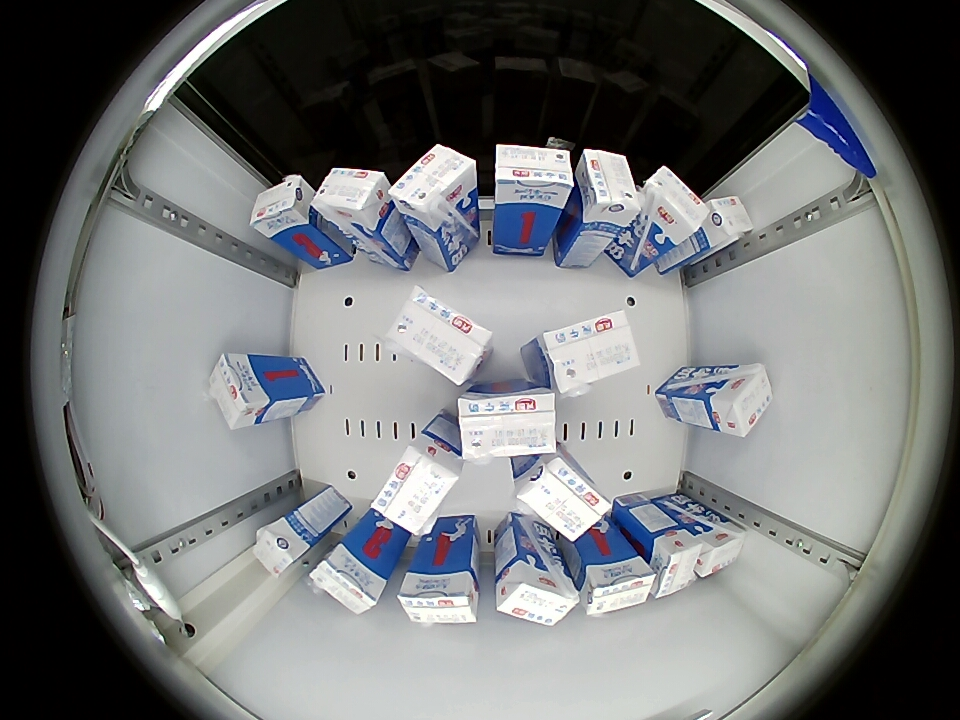niunai: (389, 284, 495, 387), (536, 310, 642, 396), (368, 440, 461, 537), (513, 454, 612, 545), (388, 143, 476, 230), (458, 385, 558, 460), (307, 541, 390, 616), (495, 562, 580, 627), (577, 148, 643, 228), (494, 144, 574, 210), (208, 351, 273, 431), (310, 167, 390, 232), (708, 362, 773, 439), (398, 566, 481, 626), (581, 552, 656, 618), (646, 165, 709, 242), (250, 174, 312, 241), (649, 525, 704, 599), (252, 514, 309, 578), (693, 517, 744, 580), (703, 194, 754, 248)
